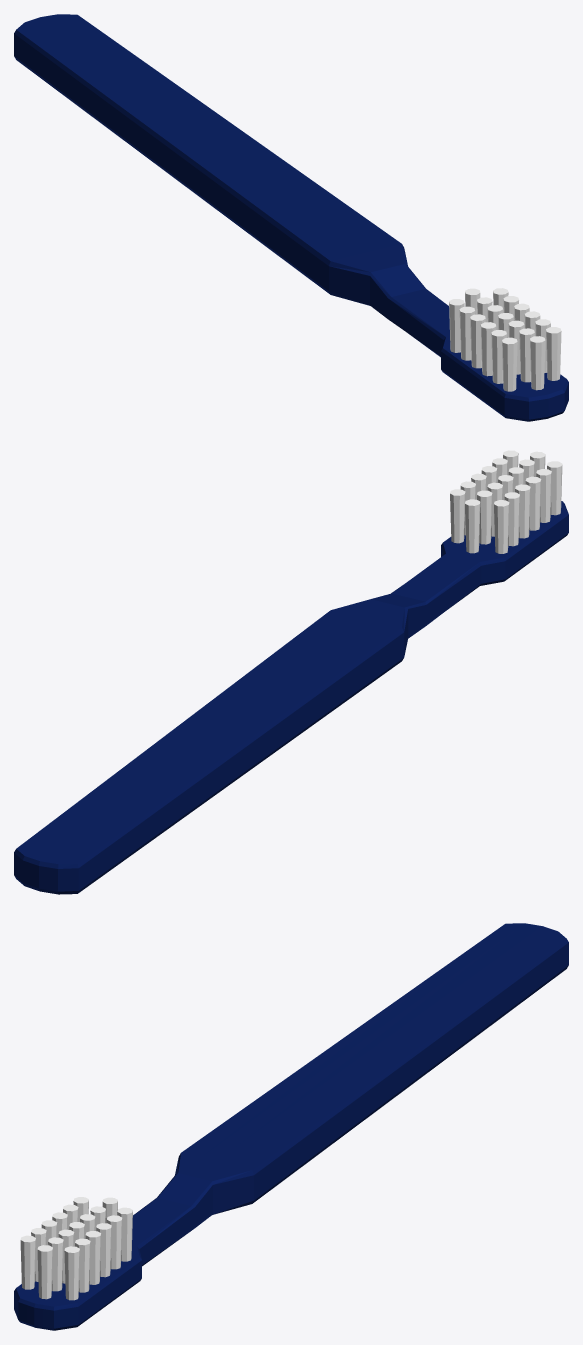
The model's file is Toothbrush.obj.
3 views of the same model, one above another, from view 1: azimuth 30°, elevation 25°; view 2: azimuth 150°, elevation 25°; view 3: azimuth 330°, elevation 25° (orthographic).
Size of the model in its own units: 0.0854 by 0.0782 by 1.
